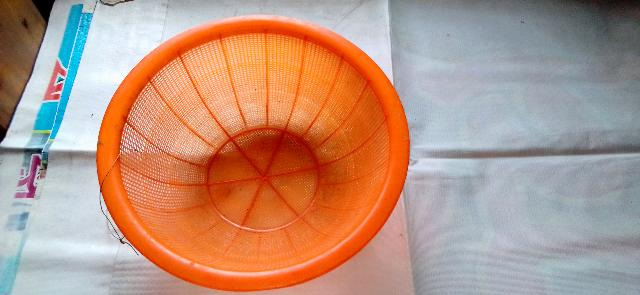hardplastic: (99, 17, 407, 288)
